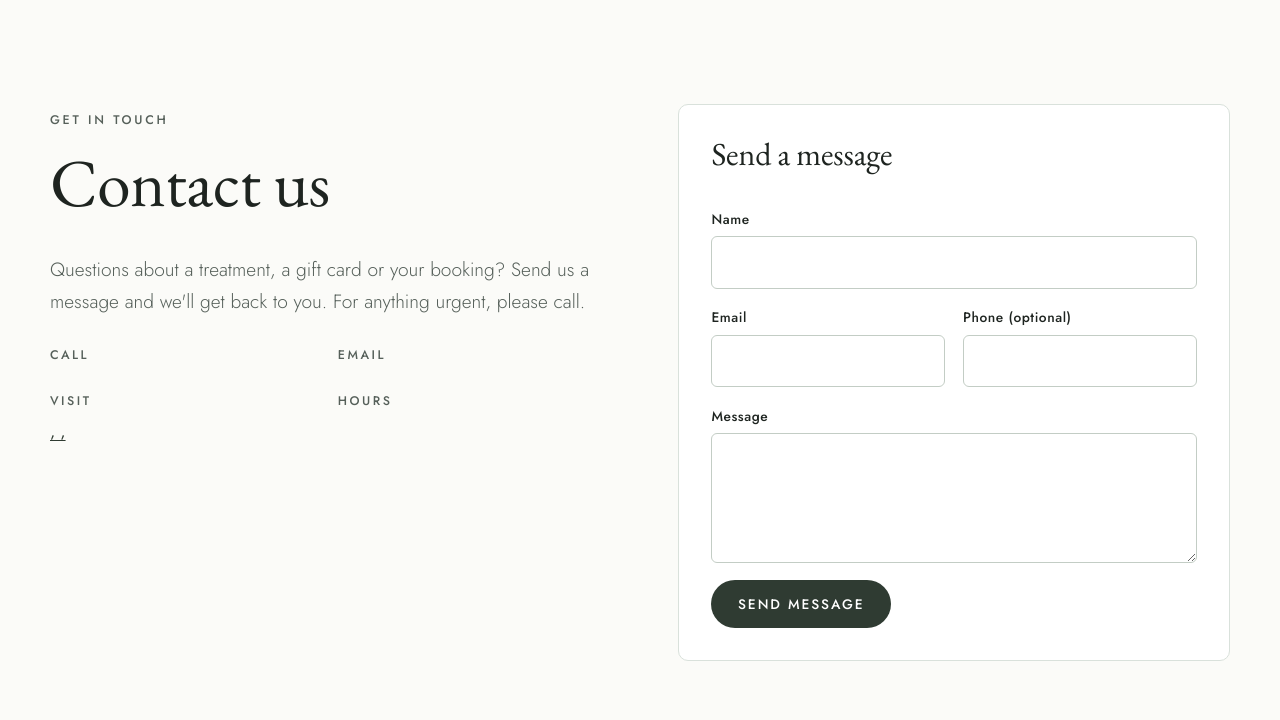
Test case: Contact form › clears the form only after the server accepts it
In the field labelled "Name": (954,262) [711,236,1197,289], type "Grace Hopper"
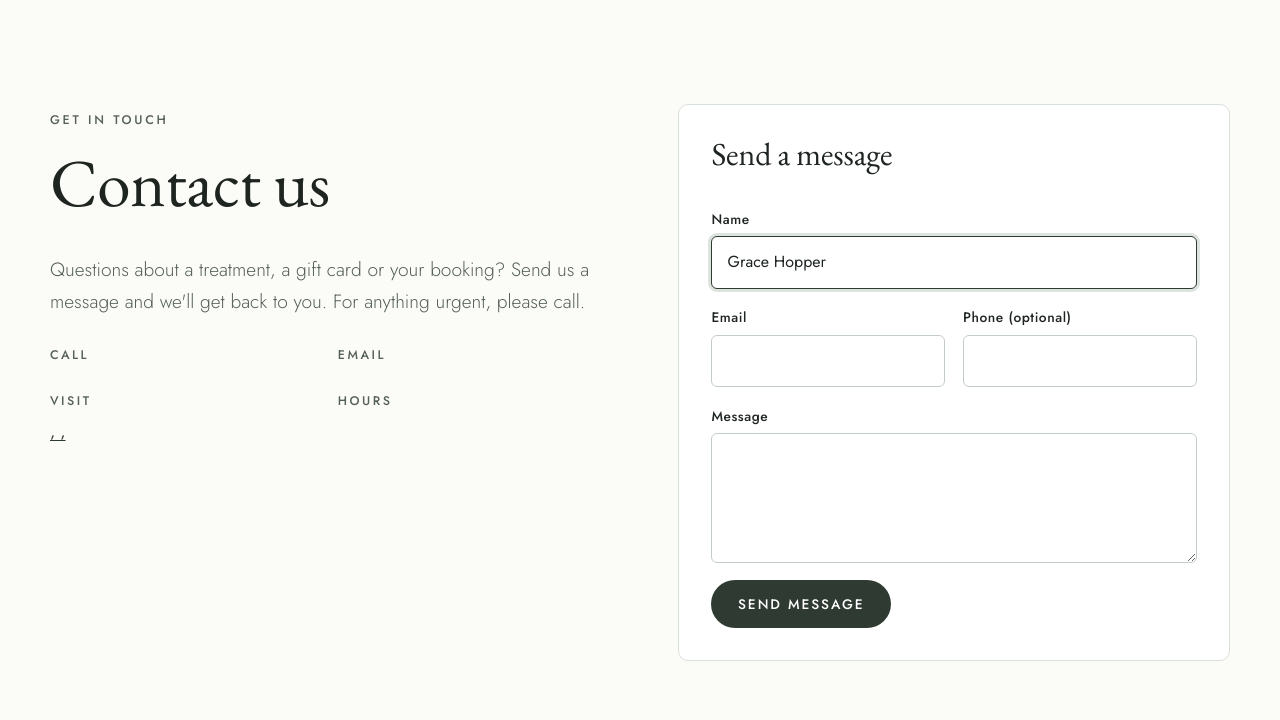
In the field labelled "Email": (828,361) [711,335,945,387], type "grace@example.com"
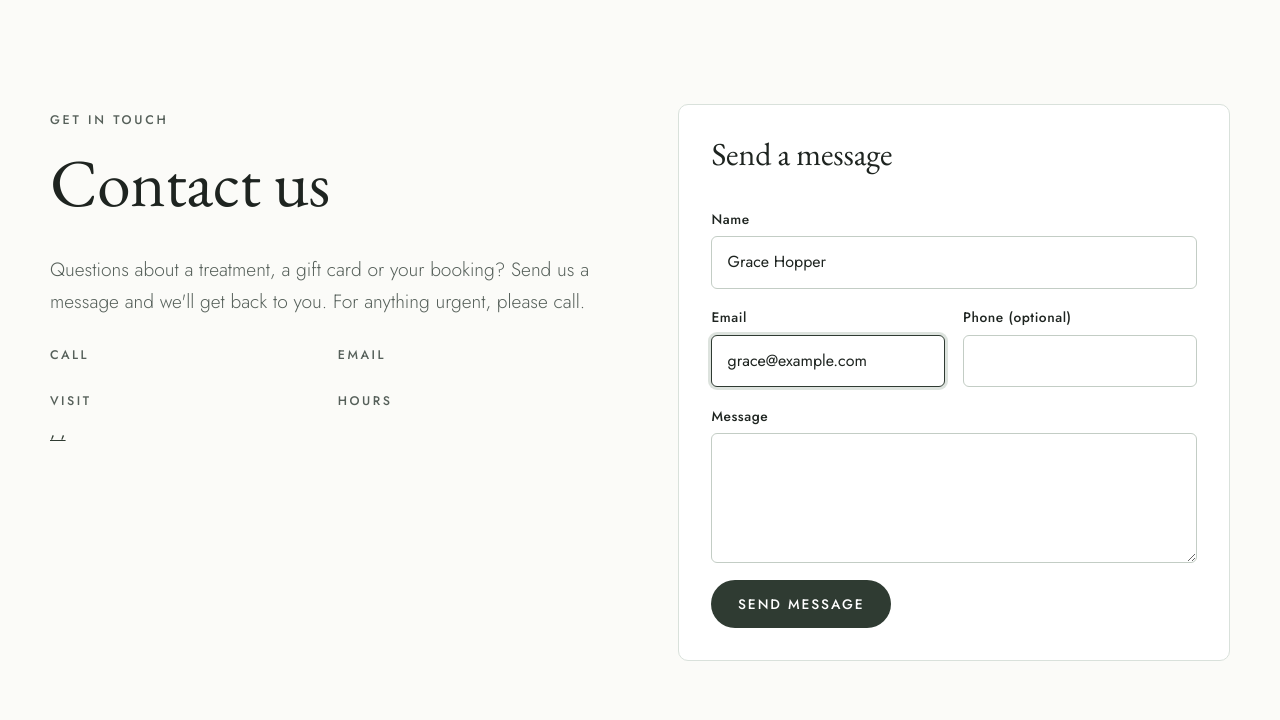
In the text box labelled "Message": (954,498) [711,433,1197,563], type "Do you have parking?"
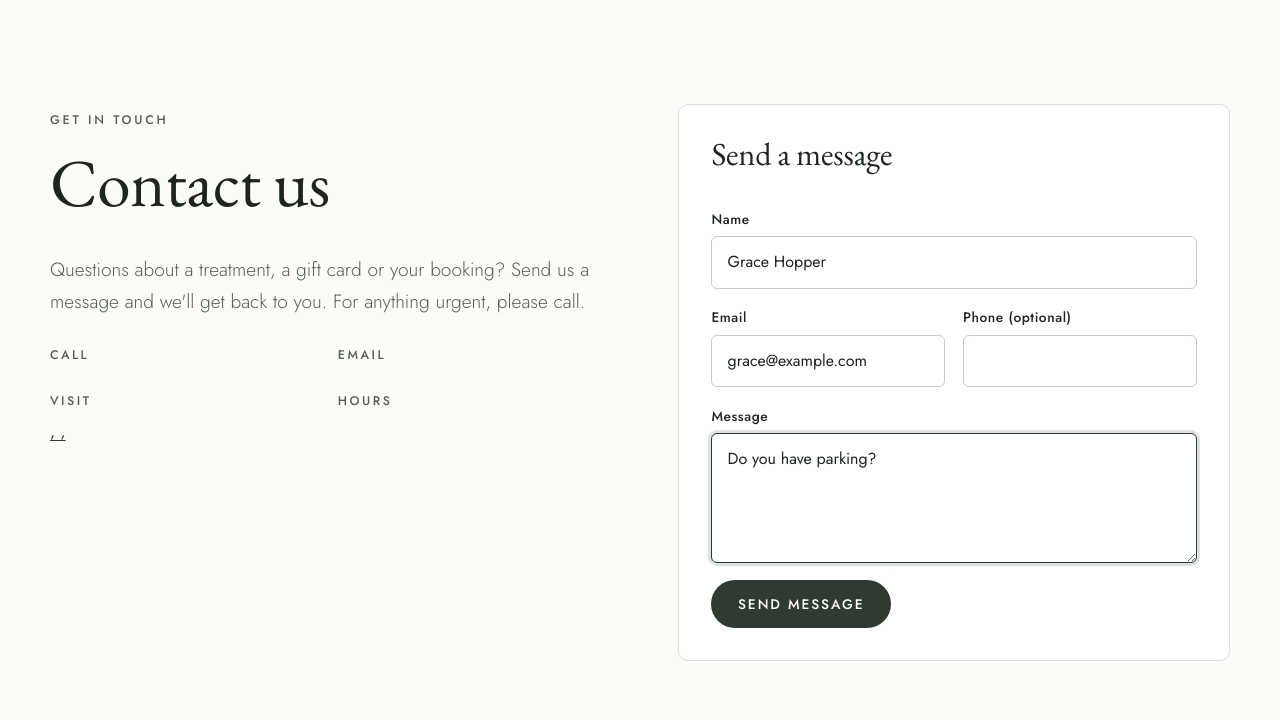
Click the button "Send message": (801,604) [711,580,891,628]
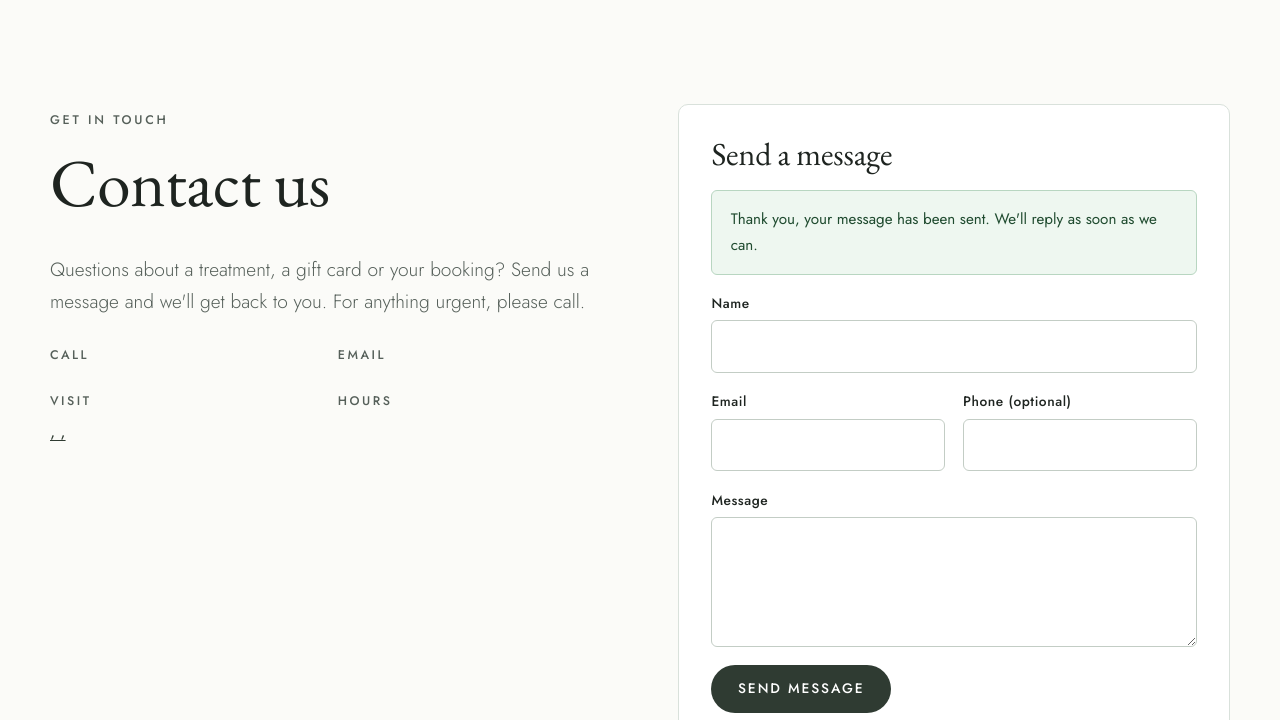
Now the message shows "message has been sent", box [731,208,1157,256]
Now the text box labelled "Message" is empty, box [711,517,1197,647]
